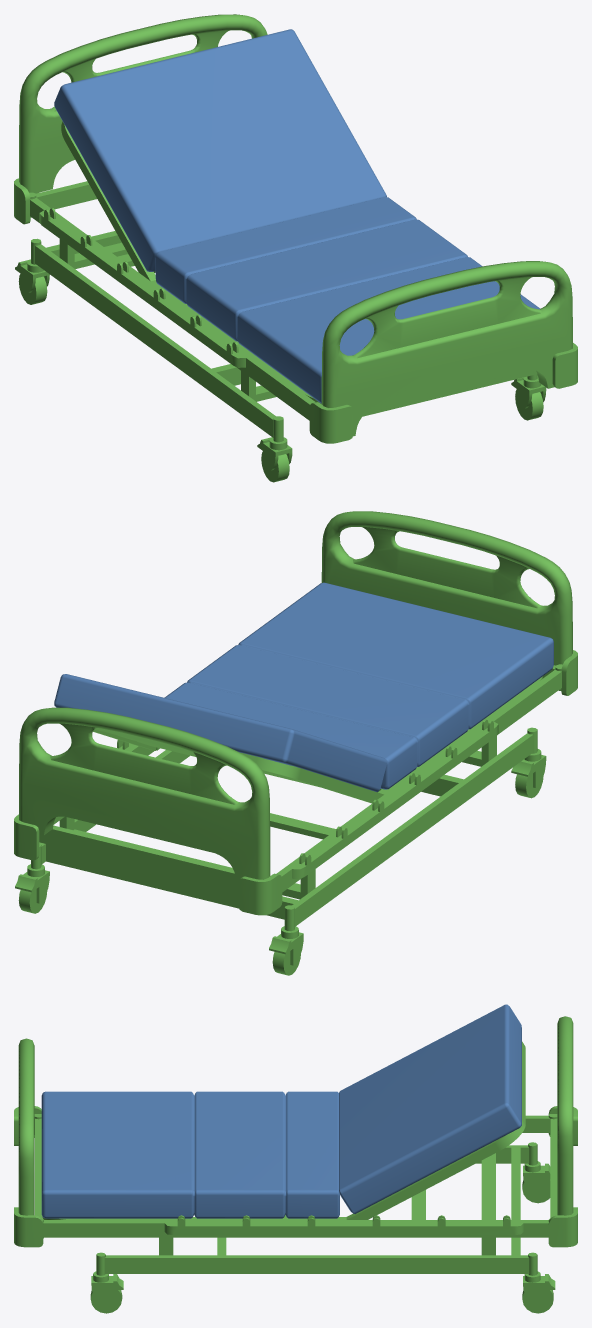
File: SM_HospitalBed_02i.FBX
3 views of the same model, one above another, from view 1: azimuth 30°, elevation 25°; view 2: azimuth 150°, elevation 25°; view 3: azimuth 270°, elevation 25° (orthographic). The views are drawn at different scales.
Parts seen in each view (by area): view 1: SM_HospitalBed_02i_LOD0; view 2: SM_HospitalBed_02i_LOD0; view 3: SM_HospitalBed_02i_LOD0.
Part boxes in pixels (bbox=[...]): SM_HospitalBed_02i_LOD0: bbox=[14, 14, 577, 482]; SM_HospitalBed_02i_LOD0: bbox=[14, 511, 577, 975]; SM_HospitalBed_02i_LOD0: bbox=[14, 1004, 577, 1313].
Size of what is drawn, in the model's own units: 109 by 89.09 by 221.
